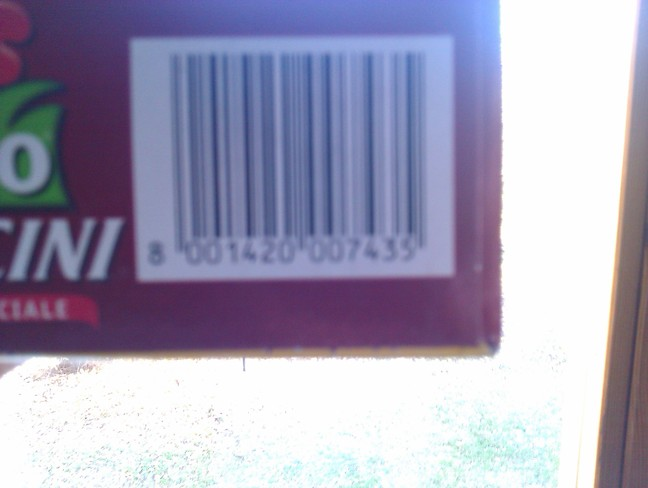barcode: (136, 46, 459, 280)
